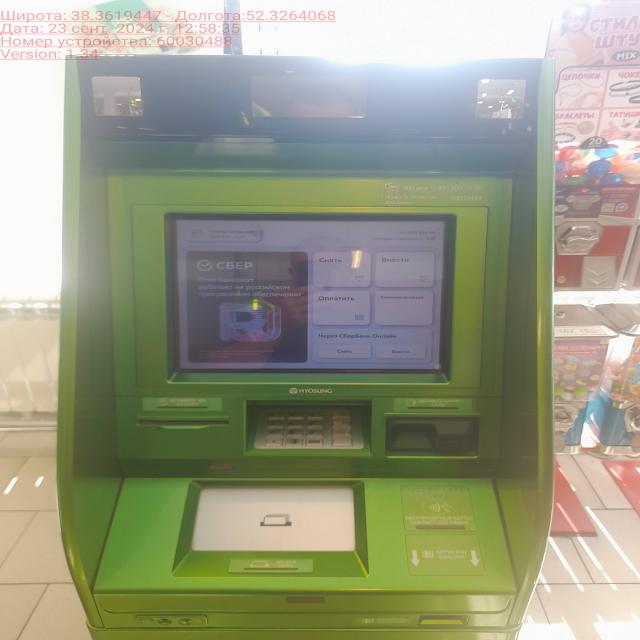bank: (58, 56, 564, 640)
